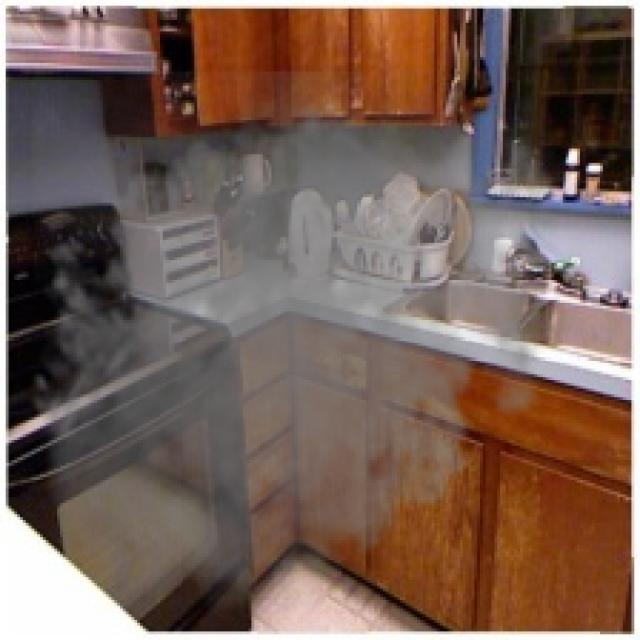smoke: (20, 71, 574, 632)
